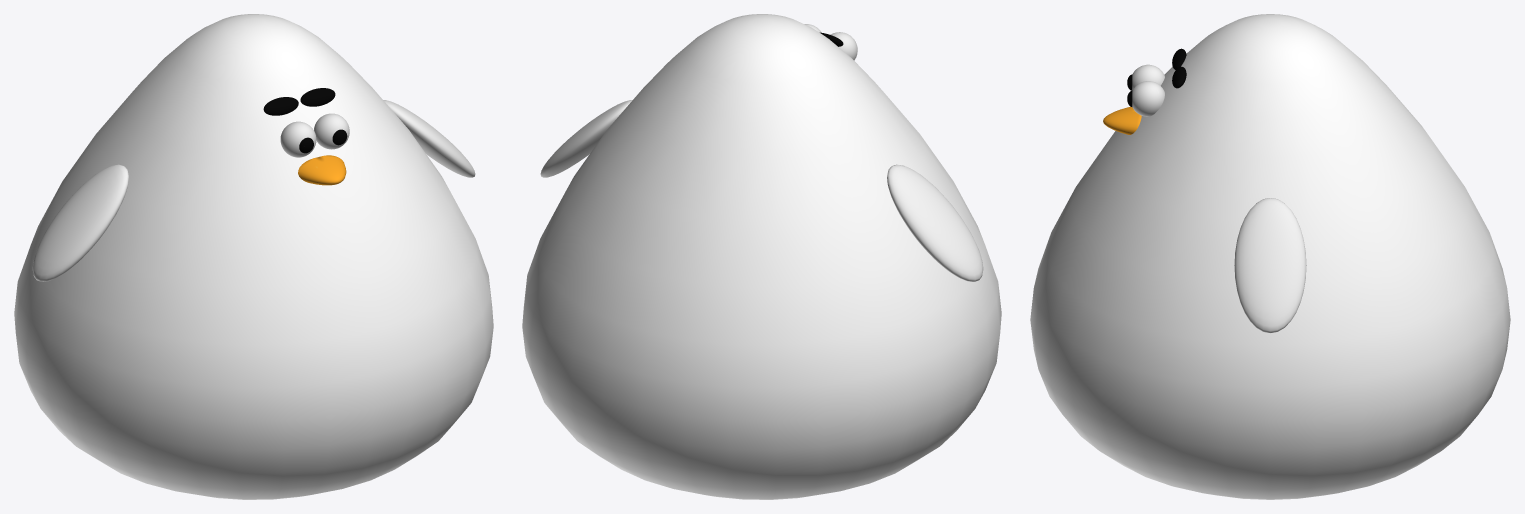
The model's file is model-backup.obj.
The picture shows the model from 3 angles, left to right: view 1: azimuth 30°, elevation 25°; view 2: azimuth 150°, elevation 25°; view 3: azimuth 270°, elevation 25°; orthographic projection.
Visible parts, largest first — view 1: 身体, 翅膀-左, 翅膀-右, 嘴, 眼白-左, 眼白-右; view 2: 身体, 翅膀-左, 翅膀-右; view 3: 身体, 翅膀-右, 眼白-右, 嘴, 眼白-左.
Boxes of the visible parts, <box> form: 身体: <box>14,14,493,499</box>; 翅膀-左: <box>32,164,128,281</box>; 翅膀-右: <box>383,100,475,177</box>; 嘴: <box>298,155,346,185</box>; 眼白-左: <box>280,121,316,157</box>; 眼白-右: <box>314,113,349,149</box>; 身体: <box>522,14,1001,499</box>; 翅膀-左: <box>887,164,983,281</box>; 翅膀-右: <box>540,100,632,177</box>; 身体: <box>1030,14,1510,499</box>; 翅膀-右: <box>1234,198,1306,332</box>; 眼白-右: <box>1132,81,1164,116</box>; 嘴: <box>1103,106,1141,134</box>; 眼白-左: <box>1132,64,1164,89</box>.
Bounding box in the file's own units: 1.05 × 1 × 1.
